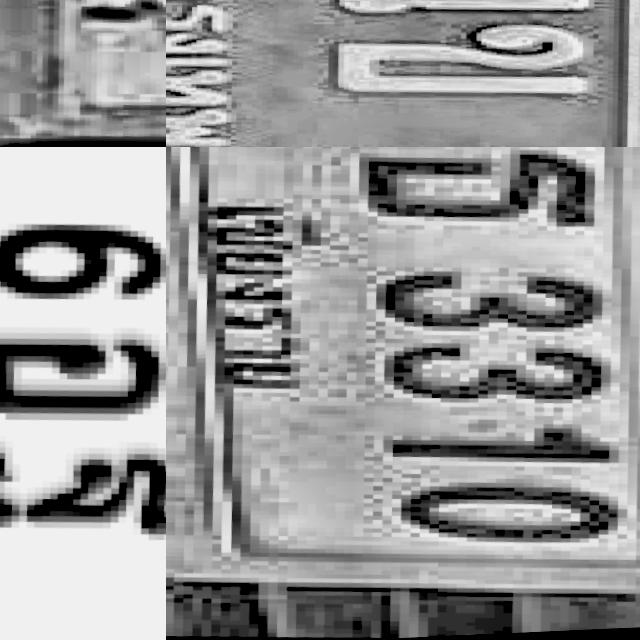license-plate: (166, 147, 640, 640), (0, 147, 166, 640), (166, 0, 640, 147), (0, 0, 166, 147)
